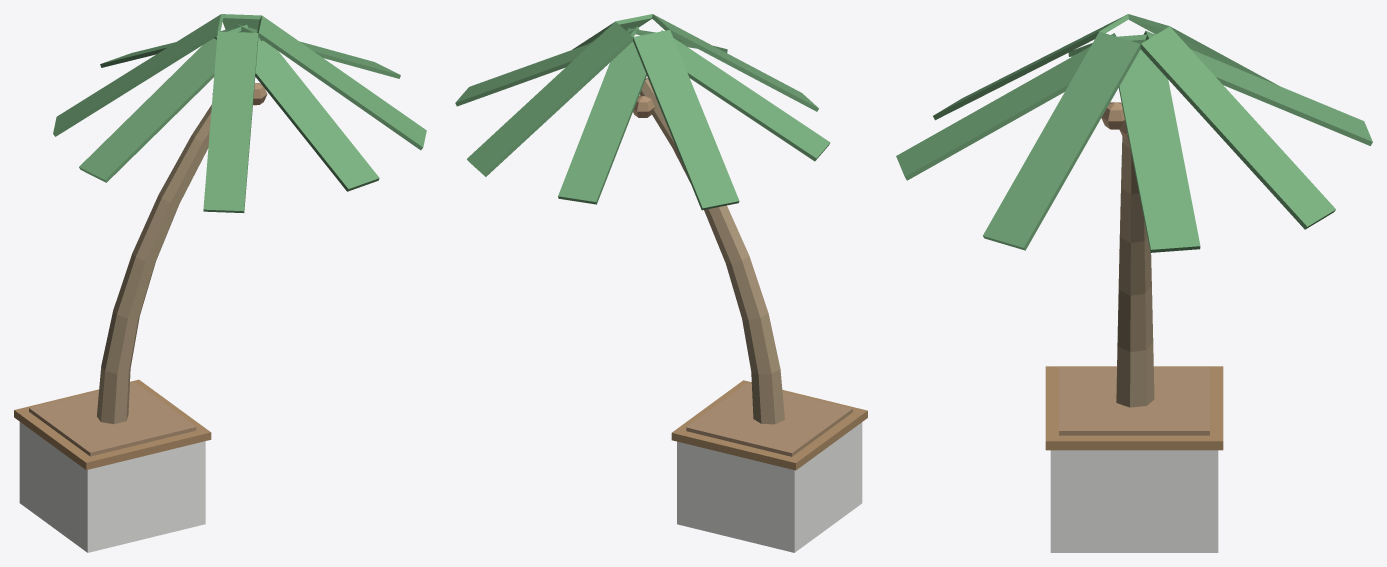
The model's file is CR_Palmera.fbx.
3 views of the same model, side by side, from view 1: azimuth 30°, elevation 25°; view 2: azimuth 150°, elevation 25°; view 3: azimuth 270°, elevation 25° (orthographic). The views are drawn at different scales.
Visible parts, largest first — view 1: CR_Palmera; view 2: CR_Palmera; view 3: CR_Palmera.
Boxes of the visible parts, x1,y1,x2,y2 form: CR_Palmera: (14, 14, 426, 552); CR_Palmera: (455, 14, 867, 552); CR_Palmera: (896, 14, 1372, 552).
Bounding box in the file's own units: 3.03 × 3.72 × 2.85.
